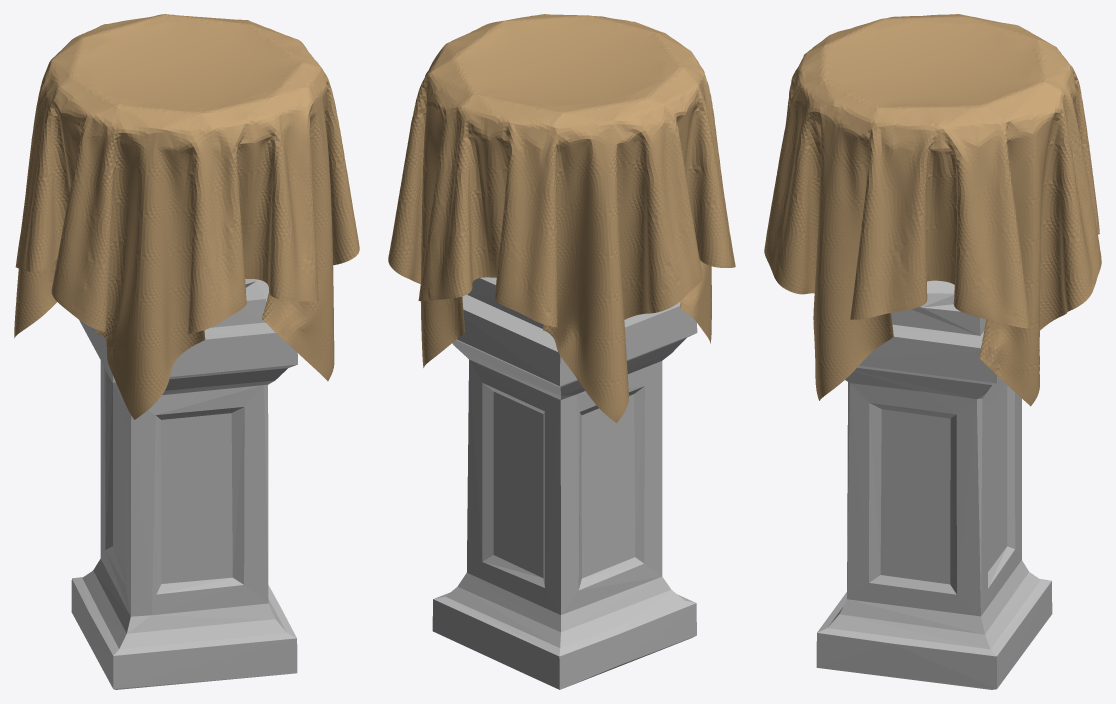
File: level_3.glb
3 renders of one model, left to right at view 1: azimuth 30°, elevation 25°; view 2: azimuth 150°, elevation 25°; view 3: azimuth 270°, elevation 25°, orthographic.
Parts seen in each view (by area): view 1: world, object.obj; view 2: world, object.obj; view 3: world, object.obj.
Boxes of the visible parts, x1,y1,x2,y2 form: world: [14, 14, 359, 419]; object.obj: [71, 279, 297, 689]; world: [388, 14, 735, 422]; object.obj: [432, 277, 697, 689]; world: [764, 14, 1101, 406]; object.obj: [816, 280, 1052, 689].
Bounding box in the file's own units: 0.2491 × 0.4811 × 0.2539.
